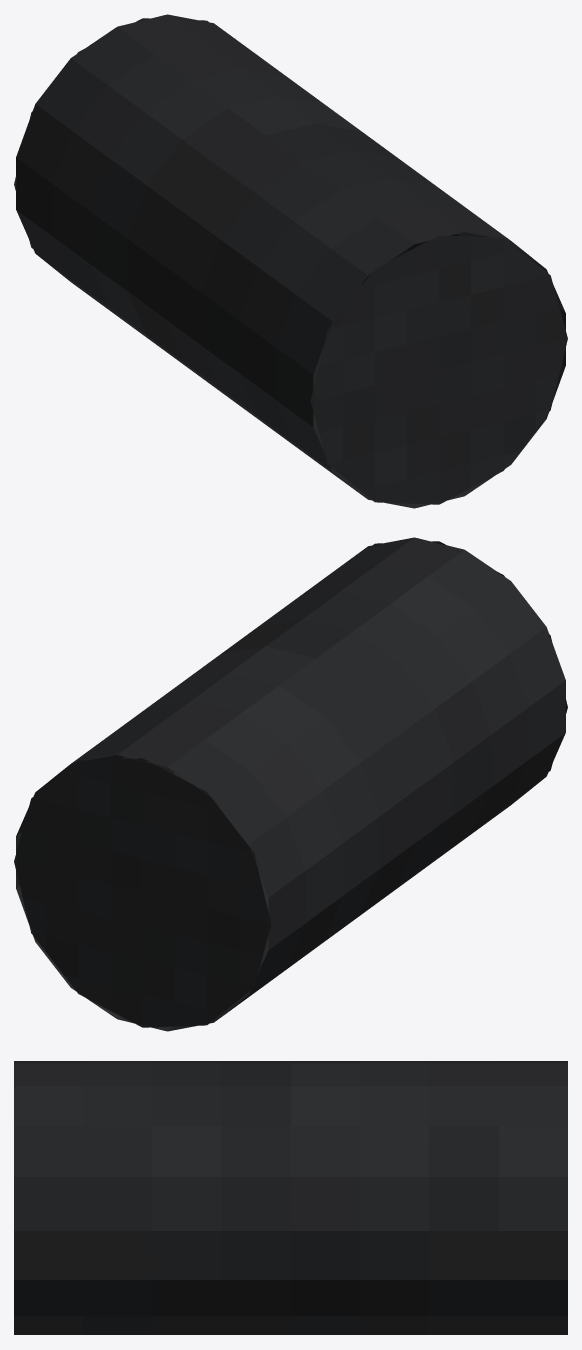
File: decopole_lawestwood_shaft.obj
3 views of the same model, one above another, from view 1: azimuth 30°, elevation 25°; view 2: azimuth 150°, elevation 25°; view 3: azimuth 270°, elevation 25° (orthographic). The views are drawn at different scales.
Parts seen in each view (by area): view 1: decopole_lawestwood_shaft; view 2: decopole_lawestwood_shaft; view 3: decopole_lawestwood_shaft.
Boxes of the visible parts, x1,y1,x2,y2 form: decopole_lawestwood_shaft: [14, 14, 567, 508]; decopole_lawestwood_shaft: [14, 537, 567, 1031]; decopole_lawestwood_shaft: [14, 1061, 567, 1334].
Size of the model in its own units: 0.5 by 0.5 by 1.
